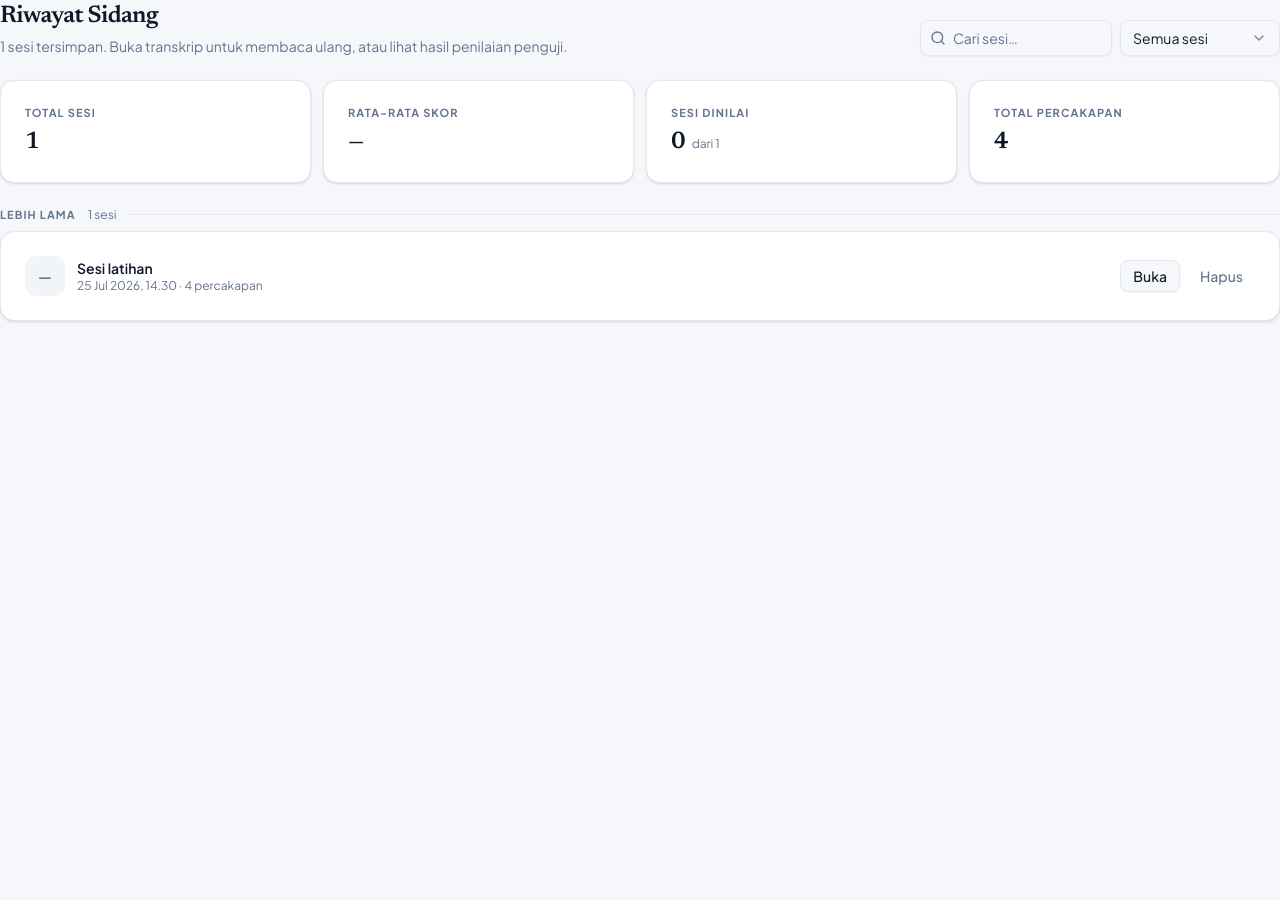
Scenario: HistoryPage › deletes a session after confirming
Check: the text "25 Jul 2026, 14.30 · 4 percakapan" is shown, box [77,278,263,293]
Click the button "Hapus" at {"x": 1222, "y": 276}, box [1188,260,1255,292]
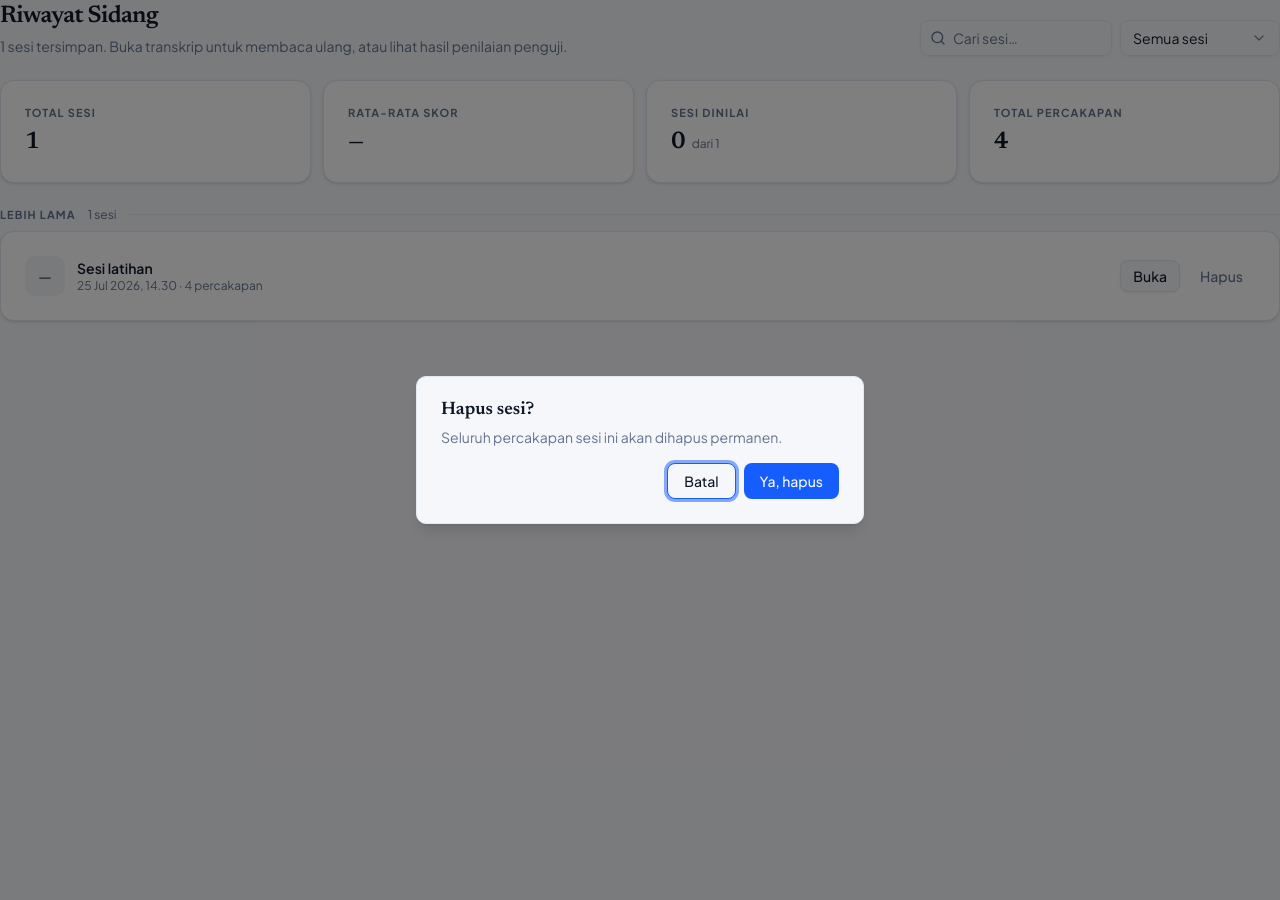
Click the button "Ya, hapus" at {"x": 791, "y": 481}, box [744,463,839,499]
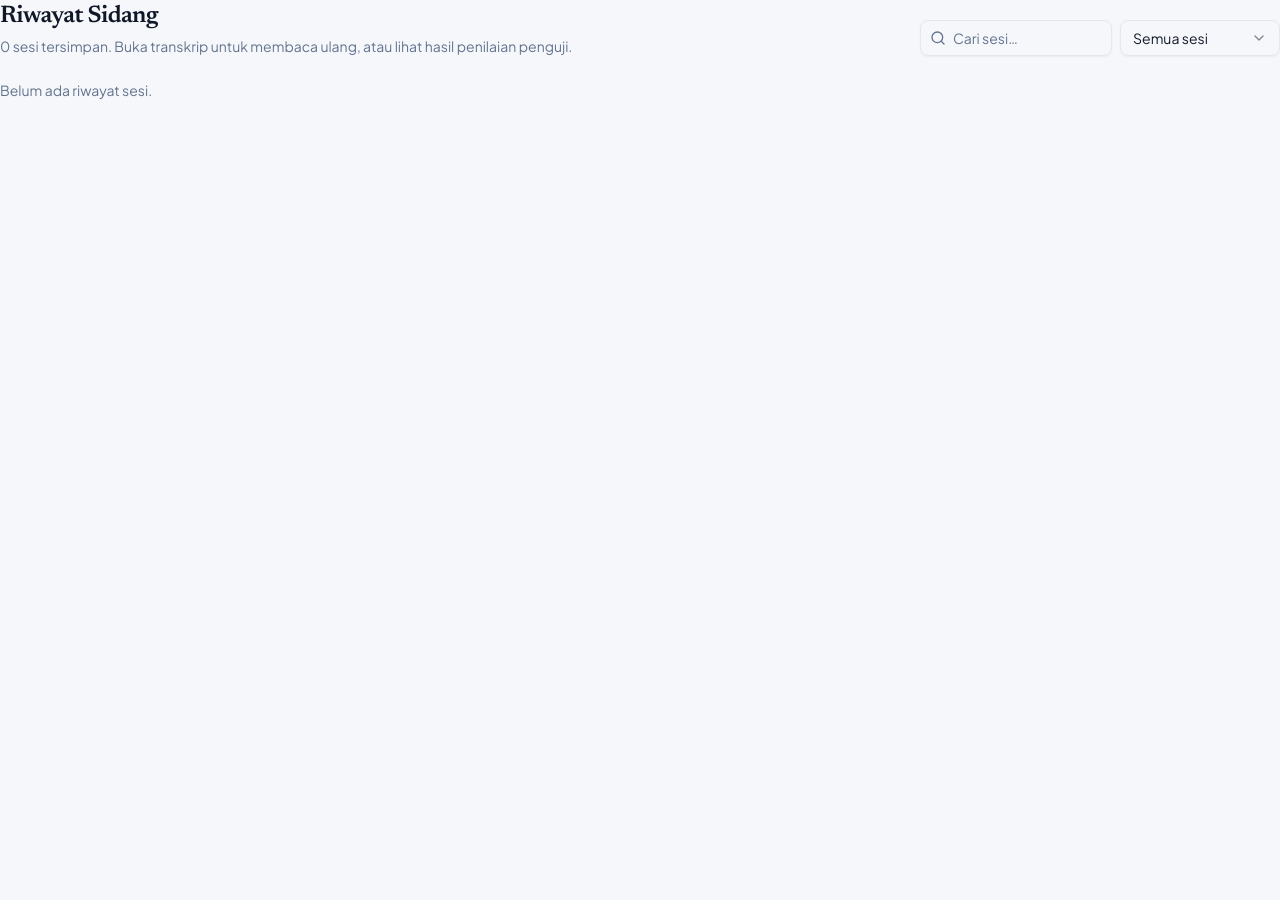
Check: the text "4 percakapan" is gone
